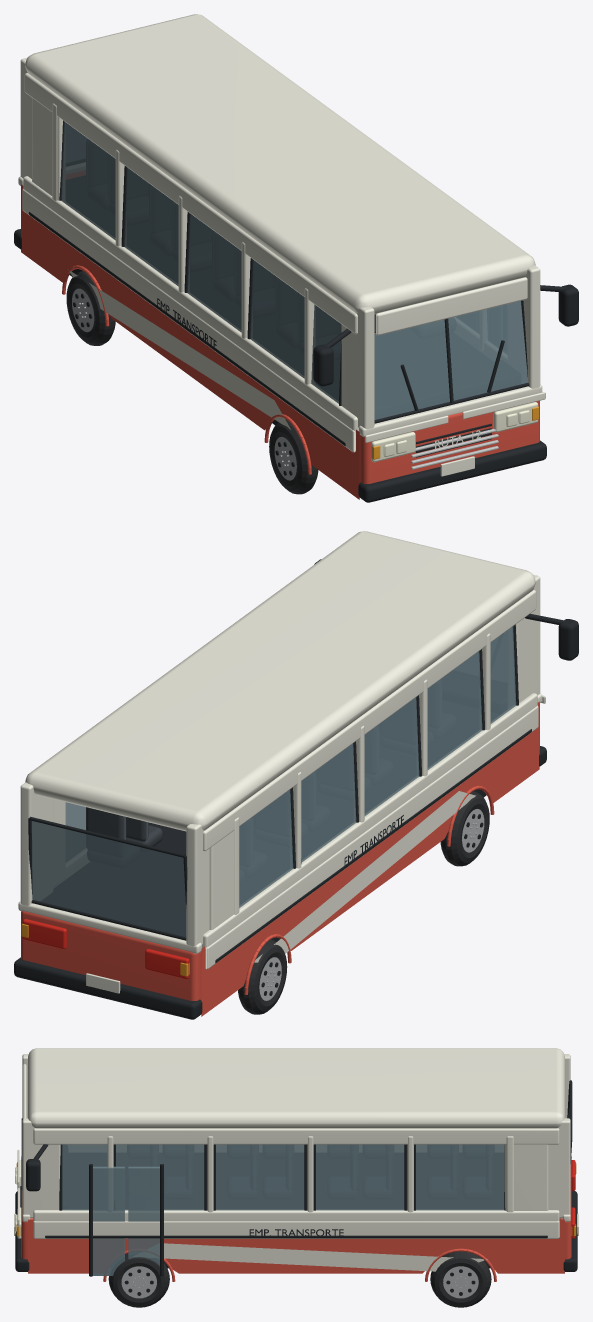
The model's file is coaster.glb.
The picture shows the model from 3 angles, top to bottom: view 1: azimuth 30°, elevation 25°; view 2: azimuth 150°, elevation 25°; view 3: azimuth 270°, elevation 25°; orthographic projection. The views are drawn at different scales.
Visible parts, largest first — view 1: Placa, Cristal real, Chapa lateral, Bastidor, Faro delantero, Torus.008, Torus.010, Lamina de parrilla, Cylinder.021, Cylinder.033; view 2: Placa, Cristal real, Chapa lateral, Bastidor, Faro trasero, Asiento, Torus.010, Torus.008, Cylinder.021, Cylinder.033; view 3: Placa, Cristal real, Chapa lateral, Bastidor, Torus.011, Torus.009, Cylinder.019, Cylinder.020.
Boxes of the visible parts, x1,y1,x2,y2 form: Placa: (18, 14, 545, 476); Cristal real: (61, 121, 528, 419); Chapa lateral: (21, 184, 539, 499); Bastidor: (14, 120, 578, 502); Faro delantero: (371, 402, 538, 462); Torus.008: (269, 419, 318, 494); Torus.010: (66, 271, 115, 345); Lamina de parrilla: (411, 428, 498, 469); Cylinder.021: (72, 288, 94, 332); Cylinder.033: (274, 436, 296, 480); Placa: (18, 531, 545, 993); Cristal real: (31, 626, 516, 936); Chapa lateral: (21, 701, 539, 1016); Bastidor: (14, 559, 578, 1019); Faro trasero: (22, 919, 189, 979); Asiento: (86, 807, 162, 846); Torus.010: (238, 939, 287, 1014); Torus.008: (440, 791, 489, 866); Cylinder.021: (259, 957, 281, 1000); Cylinder.033: (462, 809, 484, 852); Placa: (14, 1048, 578, 1271); Cristal real: (62, 1108, 569, 1275); Chapa lateral: (21, 1156, 571, 1281); Bastidor: (15, 1080, 577, 1276); Torus.011: (430, 1251, 491, 1307); Torus.009: (108, 1253, 169, 1307); Cylinder.019: (443, 1266, 478, 1298); Cylinder.020: (121, 1266, 156, 1298).
Bounding box in the file's own units: 2.96 × 2.65 × 7.01.
